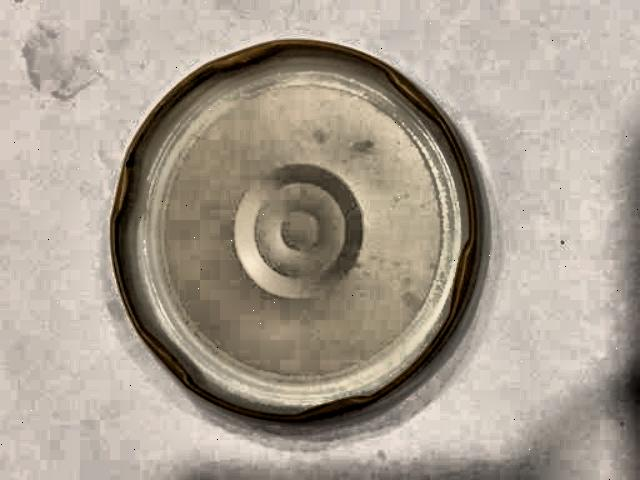Almennt: (89, 32, 494, 439)
